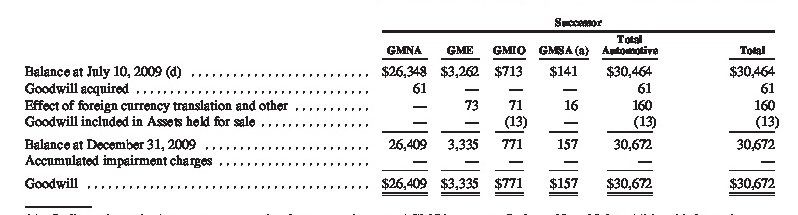table: (0, 0, 798, 215)
